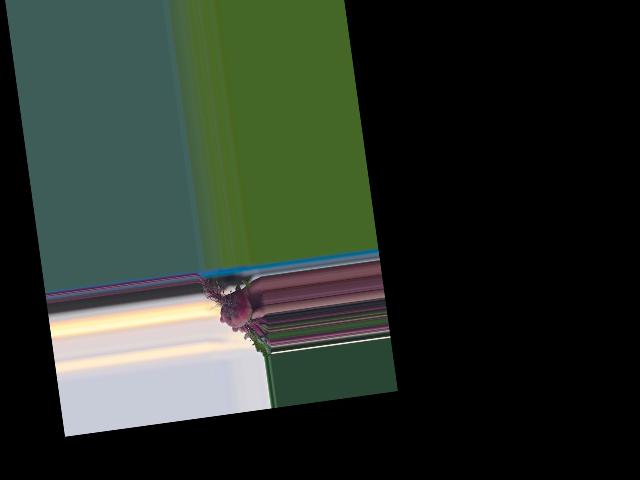beet: (196, 265, 272, 364)
